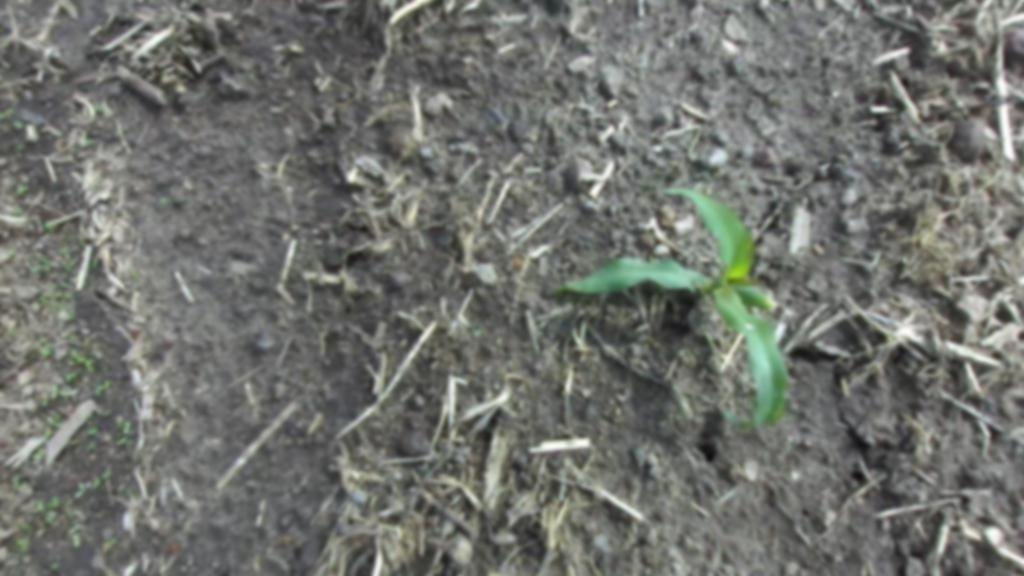BroWeed: (14, 522, 35, 555), (98, 533, 117, 554), (71, 481, 89, 502), (44, 414, 63, 430), (43, 508, 59, 525), (31, 447, 47, 462), (70, 353, 87, 366), (9, 117, 25, 130), (69, 532, 82, 548), (42, 219, 55, 234), (101, 465, 113, 480), (38, 347, 50, 361), (67, 523, 81, 535), (100, 379, 112, 392), (15, 185, 28, 196), (90, 478, 101, 491), (3, 329, 17, 339), (32, 257, 51, 264), (84, 359, 94, 372), (87, 427, 100, 437), (0, 108, 14, 117), (121, 421, 130, 435), (11, 474, 20, 488), (42, 392, 50, 407), (48, 496, 58, 508), (58, 281, 72, 289), (36, 501, 46, 512), (50, 561, 62, 570), (50, 383, 57, 398), (117, 480, 125, 492), (32, 266, 51, 271), (130, 271, 140, 280), (52, 412, 61, 422), (116, 437, 126, 446), (93, 385, 101, 396), (69, 334, 81, 341), (55, 291, 64, 300), (64, 373, 72, 383), (472, 329, 482, 337), (94, 106, 105, 113), (15, 143, 23, 152), (83, 336, 91, 345), (90, 258, 97, 268), (58, 248, 69, 254), (78, 240, 86, 247), (63, 265, 72, 271), (127, 439, 135, 445), (64, 294, 73, 299), (69, 372, 78, 377), (69, 259, 75, 266), (86, 139, 94, 143), (66, 316, 74, 320)
Maize: (555, 154, 864, 446)
